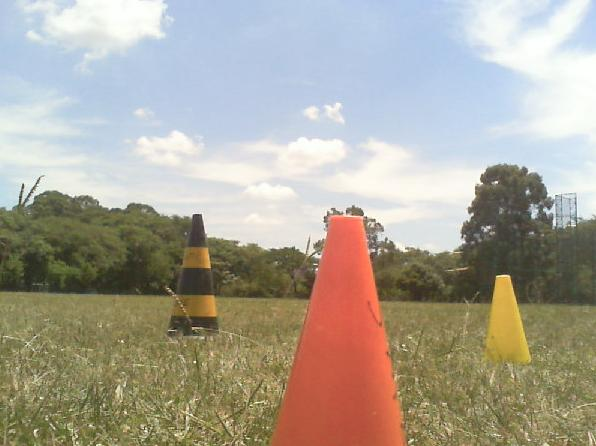0 cone: (264, 216, 411, 446), (165, 214, 221, 337), (483, 275, 533, 366)
